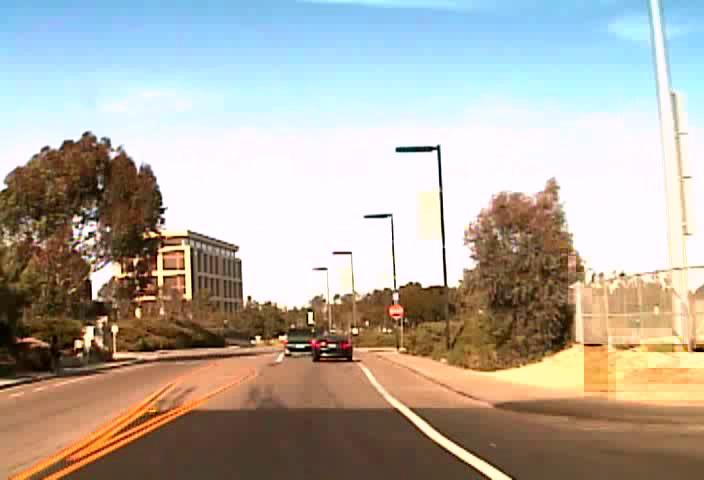stop: (389, 302, 403, 319)
